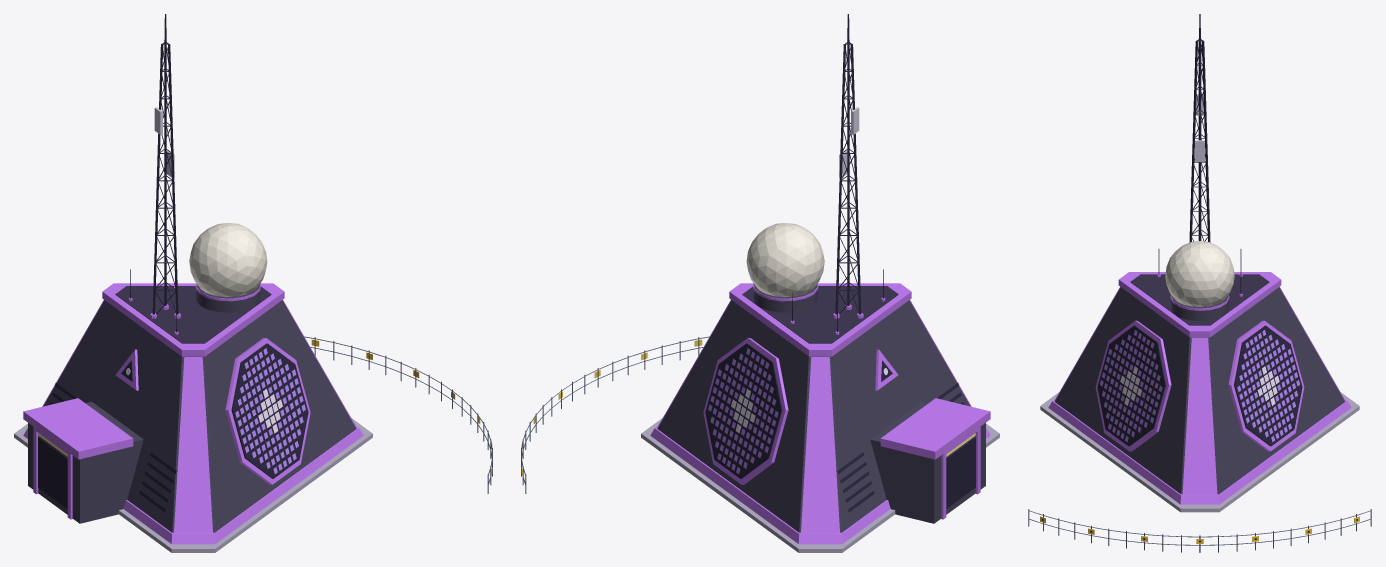
Rendered from relay.glb.
3 renders of one model, left to right at view 1: azimuth 30°, elevation 25°; view 2: azimuth 150°, elevation 25°; view 3: azimuth 270°, elevation 25°, orthographic. The views are drawn at different scales.
Parts seen in each view (by area): view 1: relay; view 2: relay; view 3: relay.
Part boxes in pixels (x1,y1,x2,y2): relay: (14,14,492,552); relay: (521,14,999,552); relay: (1028,14,1371,552).
Size of the model in its own units: 40.39 by 44.55 by 33.52.
